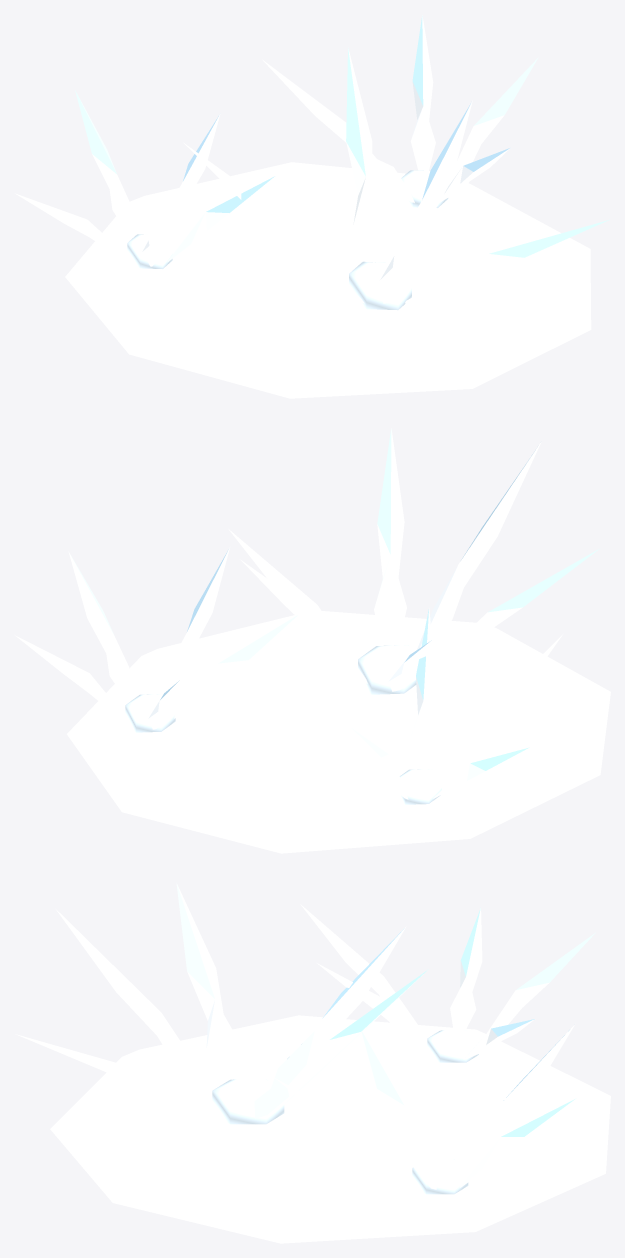
Rendered from frost-flower.glb.
3 renders of one model, top to bottom at view 1: azimuth 30°, elevation 25°; view 2: azimuth 150°, elevation 25°; view 3: azimuth 270°, elevation 25°, orthographic. The views are drawn at different scales.
Parts seen in each view (by area): view 1: frost-flower; view 2: frost-flower; view 3: frost-flower.
Boxes of the visible parts, box(x1,y1,x2,y2) form: frost-flower: box(15, 15, 609, 398); frost-flower: box(15, 428, 610, 853); frost-flower: box(15, 883, 610, 1243).
Bounding box in the file's own units: 1.43 × 0.55 × 1.5.
